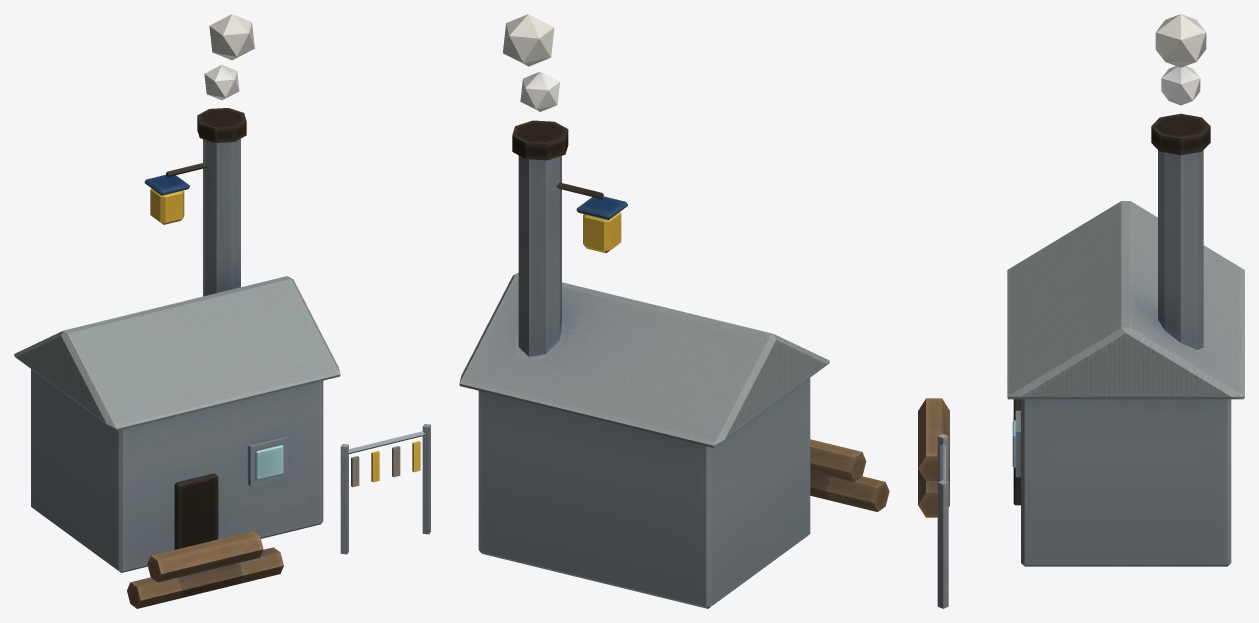
Rendered from smokehouse-3-age20.glb.
3 views of the same model, side by side, from view 1: azimuth 30°, elevation 25°; view 2: azimuth 150°, elevation 25°; view 3: azimuth 270°, elevation 25° (orthographic). The views are drawn at different scales.
Parts seen in each view (by area): view 1: smokehouse-3-age20; view 2: smokehouse-3-age20; view 3: smokehouse-3-age20.
Boxes of the visible parts, x1,y1,x2,y2 form: smokehouse-3-age20: (14,14,430,608); smokehouse-3-age20: (459,14,889,608); smokehouse-3-age20: (918,14,1244,608).
Bounding box in the file's own units: 0.882 × 1.31 × 0.715.
Materials: 1 (1 with a texture image).
